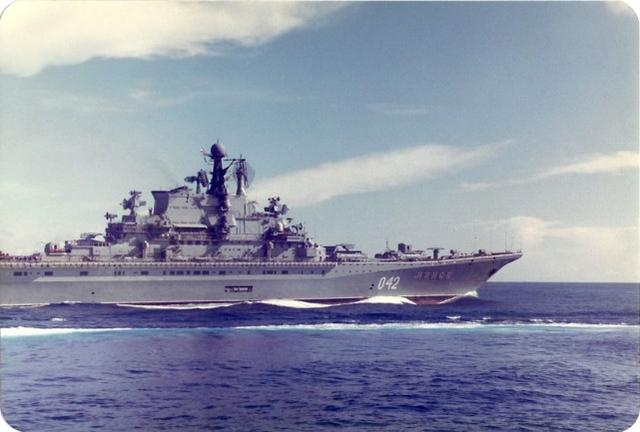warship: (1, 139, 524, 305)
